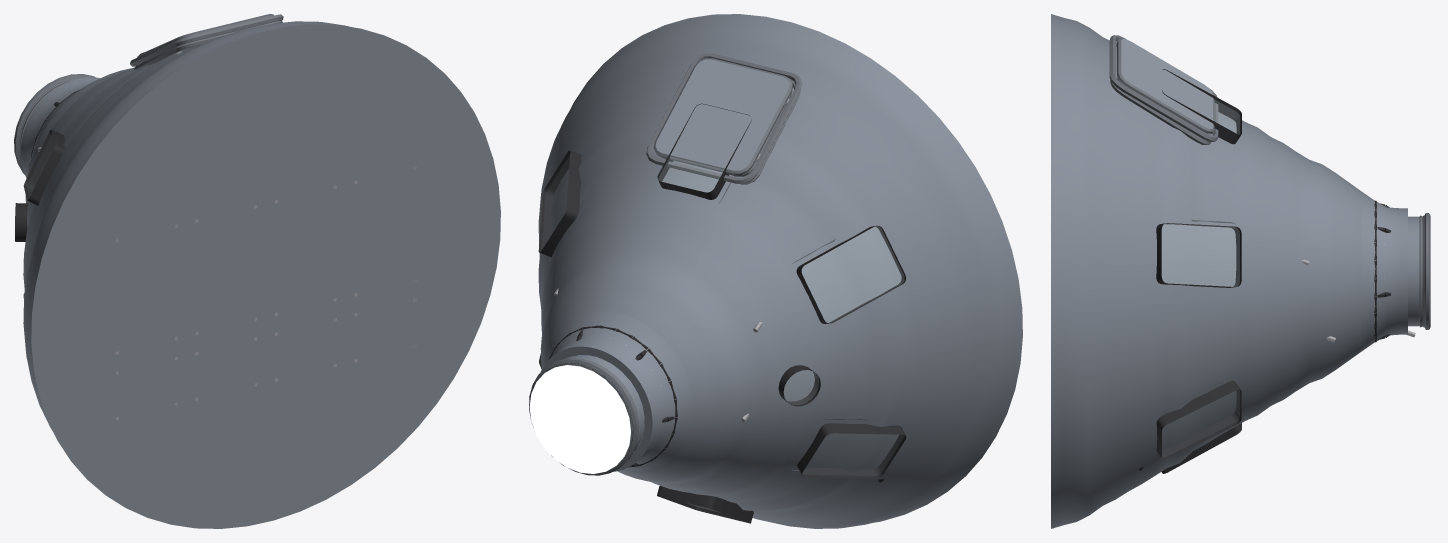
File: starliner.glb
The picture shows the model from 3 angles, left to right: view 1: azimuth 30°, elevation 25°; view 2: azimuth 150°, elevation 25°; view 3: azimuth 270°, elevation 25°; orthographic projection. The views are drawn at different scales.
Visible parts, largest first — view 1: shell_cupola, shell_panoramic, frame_panoramic5, hatchframe_inward, hatchframe_top, hatchframe_side; view 2: shell_cupola, shell_panoramic, door_inward, plug_top, glass_panoramic5, glass_panoramic0, hatchframe_inward, frame_panoramic3, frame_panoramic0, frame_panoramic1, glass_panoramic4, hatchframe_top (+7 smaller); view 3: shell_cupola, shell_panoramic, glass_panoramic3, door_inward, glass_panoramic2, frame_panoramic2, docking, hatchframe_inward, frame_panoramic3, frame_panoramic4, hatchframe_top, hatchframe_side (+3 smaller).
Part boxes in pixels (x1,y1,x2,y2): shell_cupola: (23, 21, 500, 528); shell_panoramic: (20, 77, 100, 216); frame_panoramic5: (23, 129, 67, 205); hatchframe_inward: (130, 14, 283, 66); hatchframe_top: (14, 74, 95, 174); hatchframe_side: (134, 20, 282, 71); shell_cupola: (538, 14, 1022, 528); shell_panoramic: (540, 147, 908, 513); door_inward: (653, 58, 793, 175); plug_top: (529, 365, 630, 473); glass_panoramic5: (802, 226, 903, 322); glass_panoramic0: (803, 434, 904, 475); hatchframe_inward: (646, 53, 802, 183); frame_panoramic3: (538, 150, 583, 263); frame_panoramic0: (791, 419, 906, 478); frame_panoramic1: (657, 485, 753, 523); glass_panoramic4: (659, 157, 723, 191); hatchframe_top: (529, 358, 638, 475); shell_cupola: (1051, 14, 1361, 528); shell_panoramic: (1154, 126, 1407, 460); glass_panoramic3: (1162, 224, 1239, 286); door_inward: (1117, 38, 1214, 133); glass_panoramic2: (1162, 390, 1239, 456); frame_panoramic2: (1156, 381, 1241, 459); docking: (1408, 215, 1424, 327); hatchframe_inward: (1109, 35, 1218, 141); frame_panoramic3: (1156, 220, 1241, 293); frame_panoramic4: (1162, 69, 1241, 144); hatchframe_top: (1424, 213, 1430, 329); hatchframe_side: (1110, 41, 1211, 144).
Bounding box in the file's own units: 3.19 × 3.19 × 2.37.
